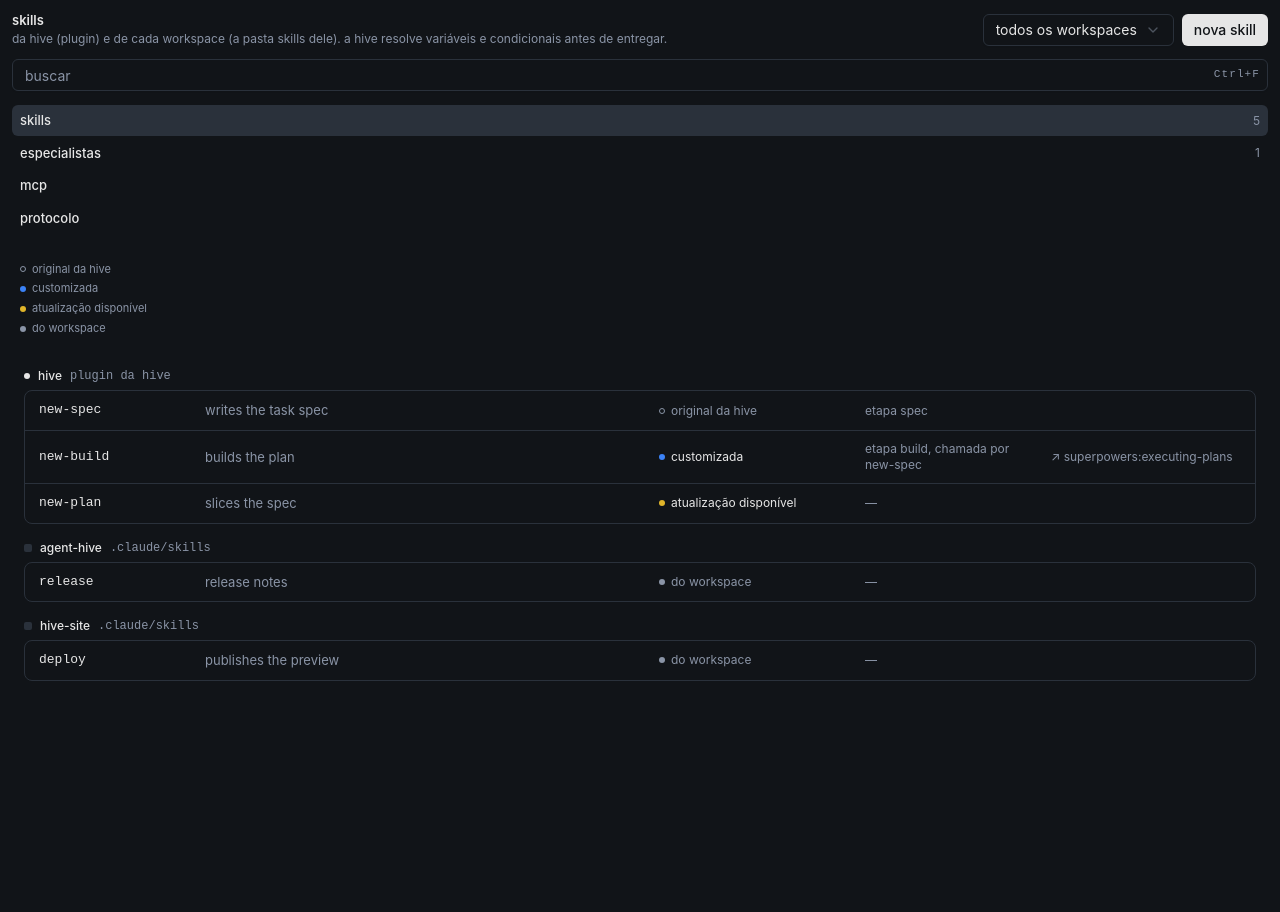
a failed read of the protocol replaces the list with its message (#337)
Click the button "protocolo": (50, 218) [12,203,1268,234]
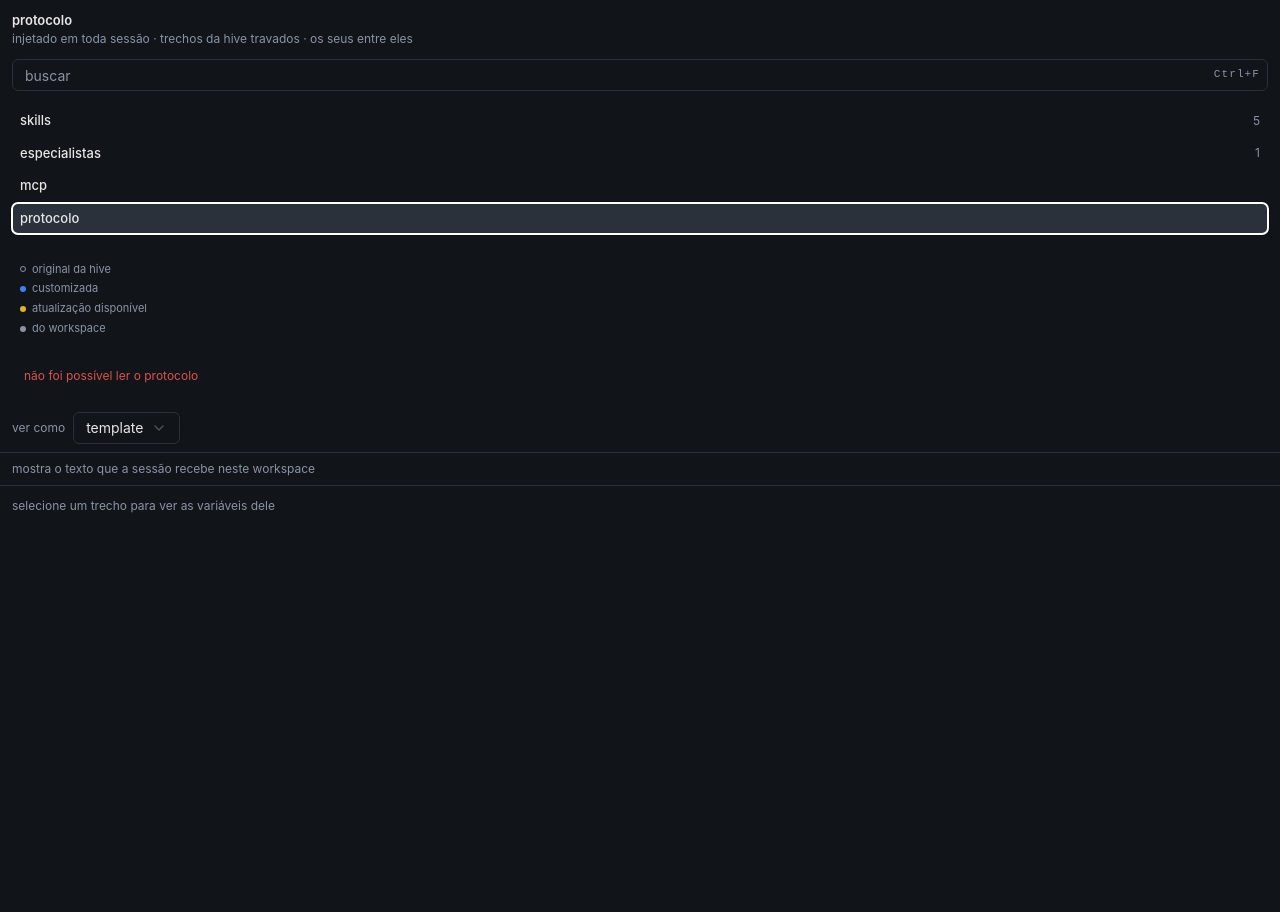
Check: the message reads "não foi possível ler o protocolo", box [24,368,198,383]
